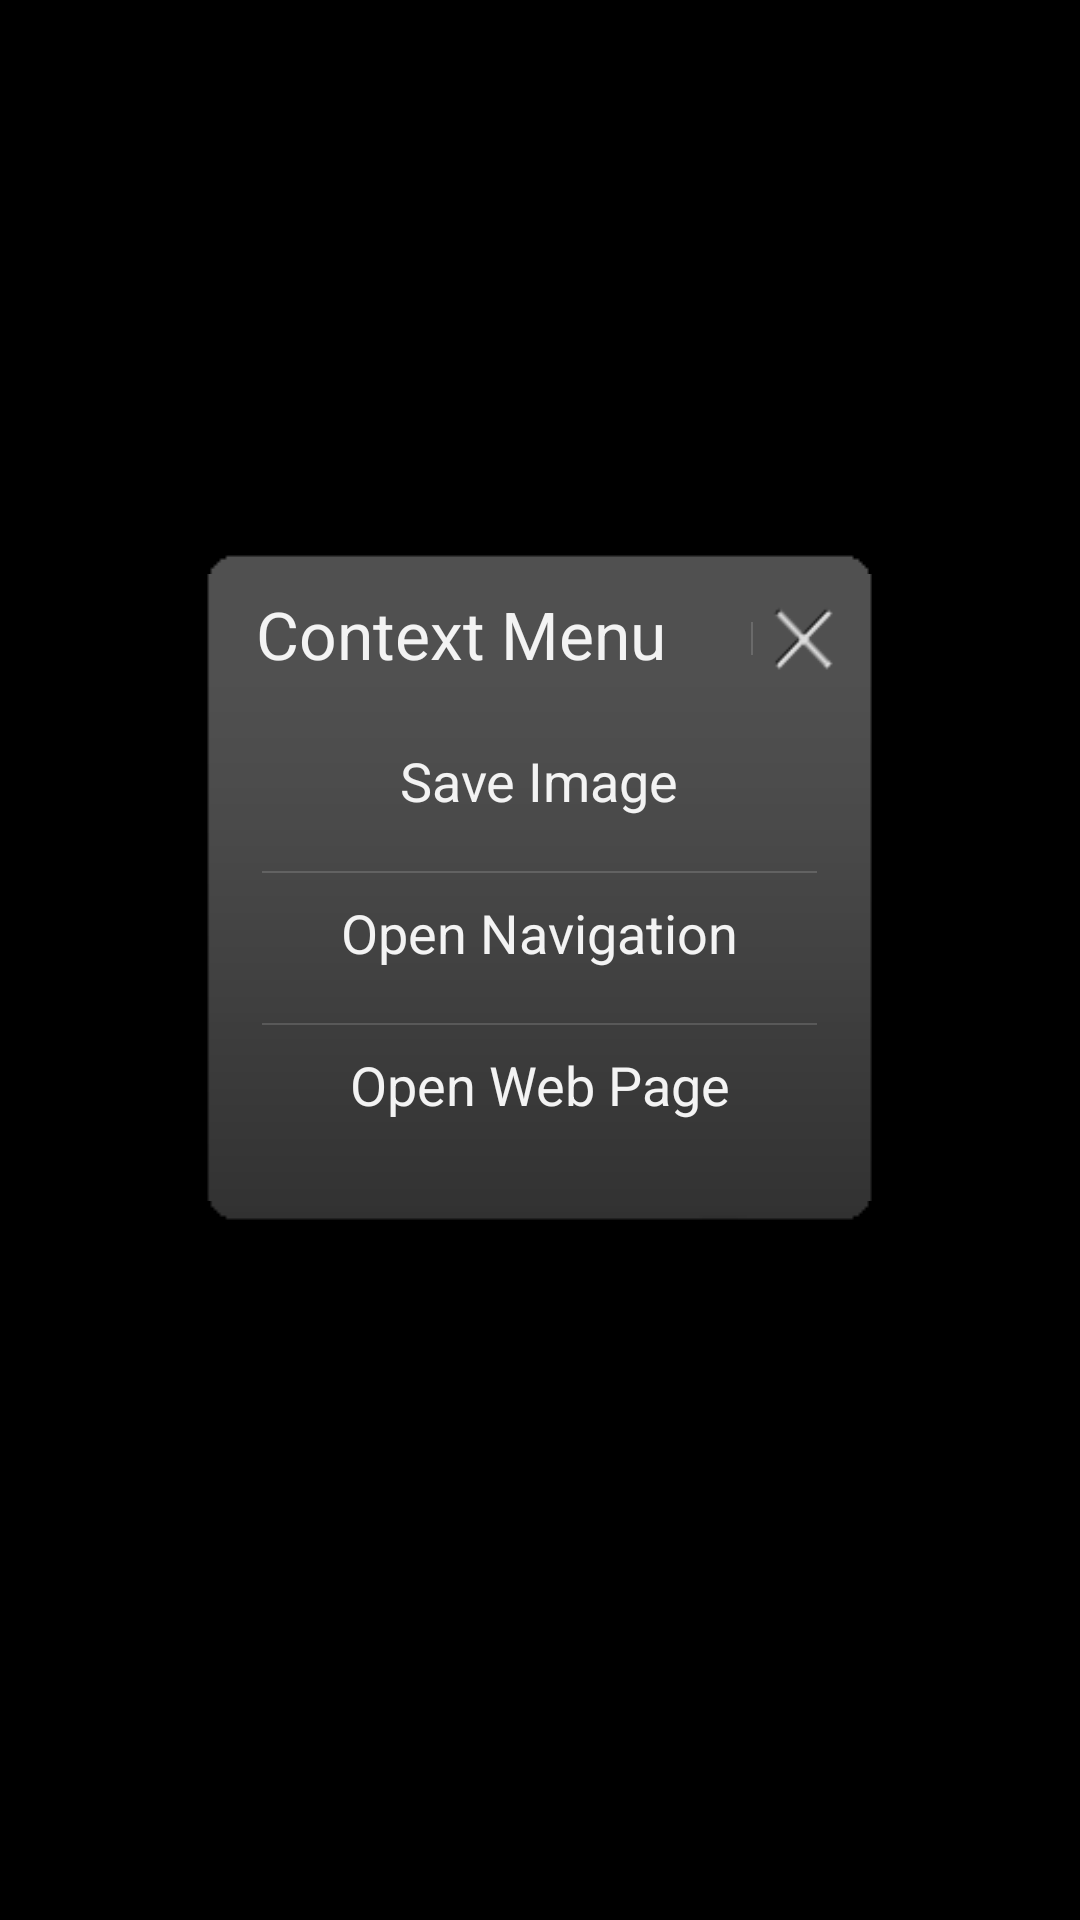

Where icons sit on this 1080px x 1920px app screen, as bbox=(x1, y1, x2, y2):
cancel: bbox=(776, 610, 832, 669)
